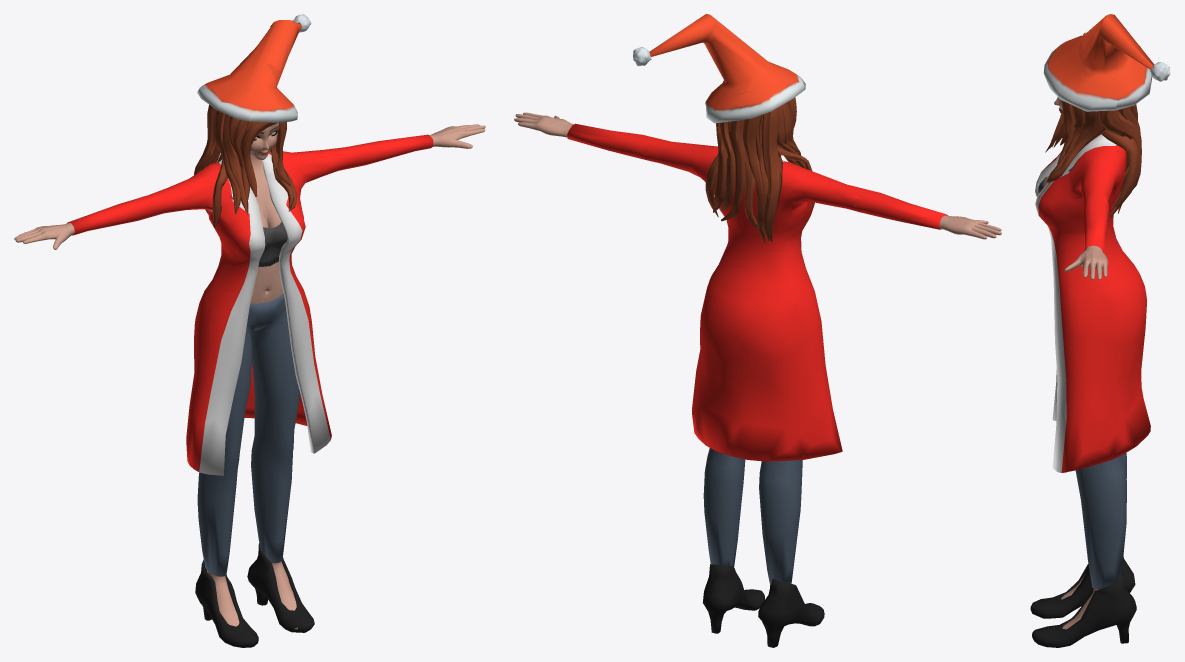
Rendered from Melissa.fbx.
3 renders of one model, left to right at view 1: azimuth 30°, elevation 25°; view 2: azimuth 150°, elevation 25°; view 3: azimuth 270°, elevation 25°, orthographic. The views are drawn at different scales.
Parts seen in each view (by area): view 1: Coat_clean, Jeans, BaseMesh_clean, Hat_clean, Hair_clean, LeftShoe, CropTop_clean; view 2: Coat_clean, Jeans, Hair_clean, Hat_clean, LeftShoe, BaseMesh_clean; view 3: Coat_clean, Hat_clean, Jeans, LeftShoe, Hair_clean, BaseMesh_clean, Hat.001_clean.
Boxes of the visible parts, x1,y1,x2,y2 form: Coat_clean: (67,134,433,475); Jeans: (197,293,300,576); BaseMesh_clean: (14,122,485,629); Hat_clean: (197,20,301,122); Hair_clean: (194,104,297,227); LeftShoe: (195,543,314,647); CropTop_clean: (230,196,287,266); Coat_clean: (567,123,947,461); Jeans: (703,326,802,585); Hair_clean: (705,97,813,243); Hat_clean: (649,14,805,123); LeftShoe: (702,564,824,647); BaseMesh_clean: (514,112,1001,594); Coat_clean: (1035,134,1150,472); Hat_clean: (1043,14,1154,111); Jeans: (1075,453,1126,588); LeftShoe: (1030,556,1136,647); Hair_clean: (1045,100,1141,217); BaseMesh_clean: (1044,32,1108,629); Hat.001_clean: (1150,62,1170,81).
Bounding box in the file's own units: 308 × 368 × 73.55.
Materials: 12 (2 with a texture image).
